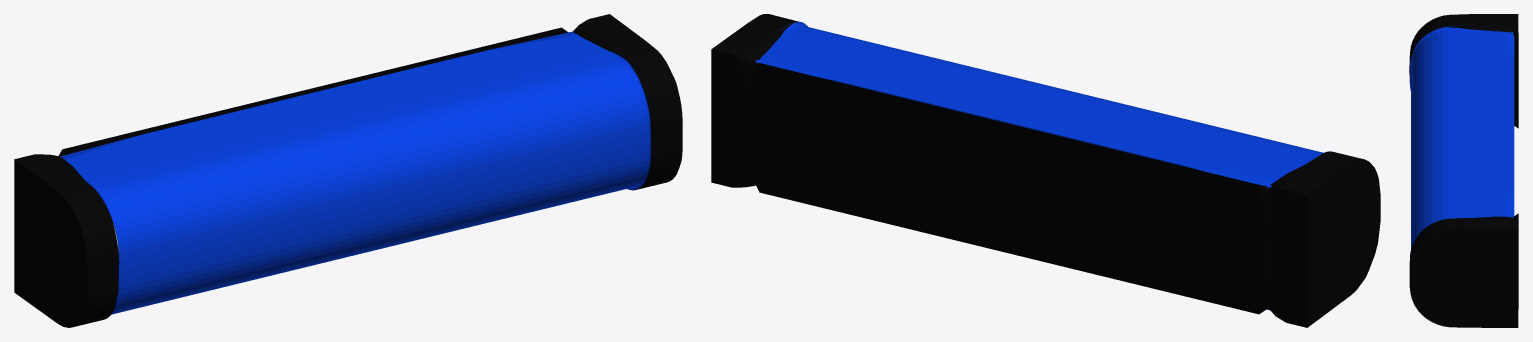
The model's file is lamb.fbx.
The picture shows the model from 3 angles, left to right: view 1: azimuth 30°, elevation 25°; view 2: azimuth 150°, elevation 25°; view 3: azimuth 270°, elevation 25°; orthographic projection. The views are drawn at different scales.
Parts seen in each view (by area): view 1: Cube, Cube.001; view 2: Cube.001, Cube; view 3: Cube, Cube.001.
Part boxes in pixels (x1,y1,x2,y2): Cube: [60, 31, 650, 319]; Cube.001: [14, 14, 682, 327]; Cube.001: [711, 14, 1380, 327]; Cube: [755, 22, 1330, 310]; Cube: [1409, 25, 1514, 252]; Cube.001: [1409, 14, 1518, 327].
Bounding box in the file's own units: 987 × 211 × 211.
